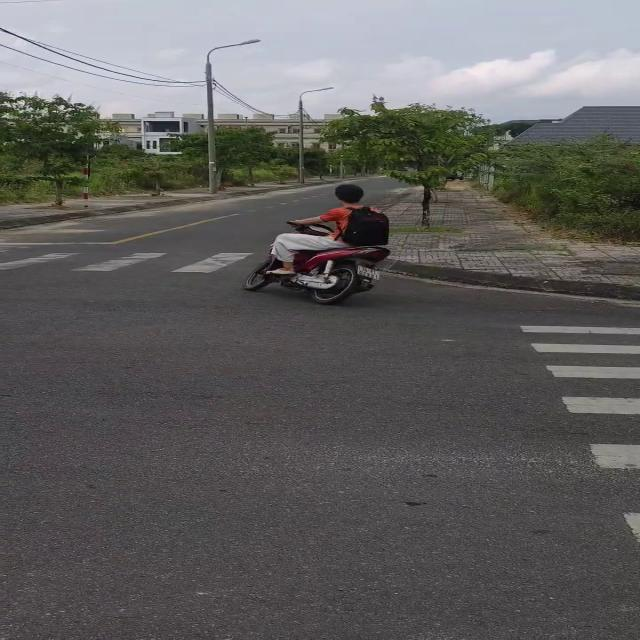no_helmet: (334, 184, 363, 201)
